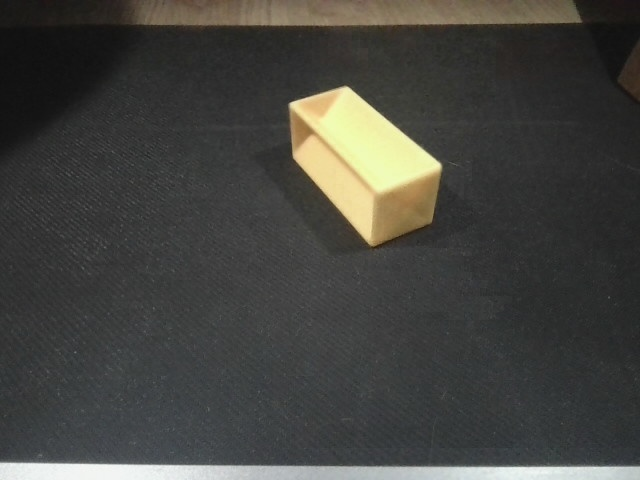YellowSample: (287, 84, 446, 250)
